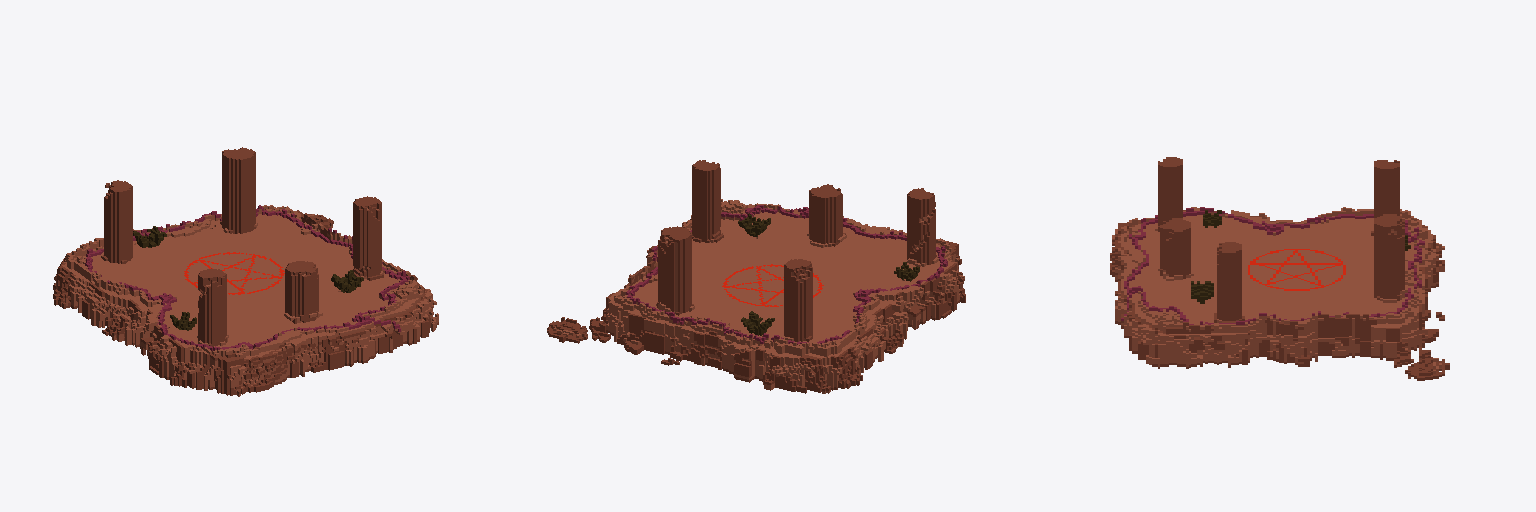
3 renders of one model, left to right at view 1: azimuth 30°, elevation 25°; view 2: azimuth 150°, elevation 25°; view 3: azimuth 270°, elevation 25°, orthographic.
Parts seen in each view (by area): view 1: object 1; view 2: object 1; view 3: object 1.
Boxes of the visible parts, x1,y1,x2,y2 form: object 1: [53, 147, 438, 396]; object 1: [547, 160, 965, 393]; object 1: [1110, 157, 1449, 380].
Size of the model in its own units: 12 by 4.2 by 12.1.
Materials: 1 (1 with a texture image).